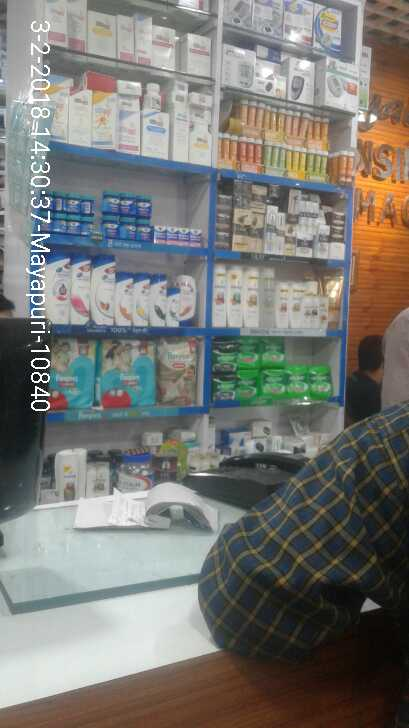vicks: (36, 188, 213, 247)
